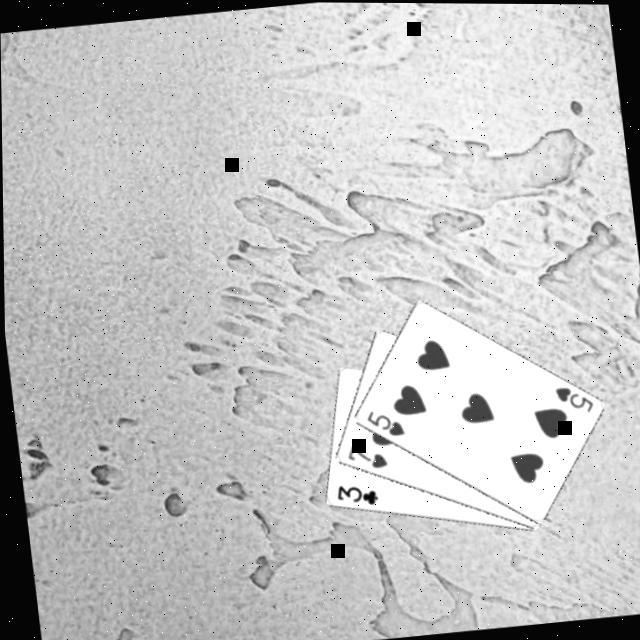3C: (332, 475, 381, 508)
5H: (362, 402, 407, 439), (551, 378, 596, 415)
7H: (342, 435, 391, 471)
